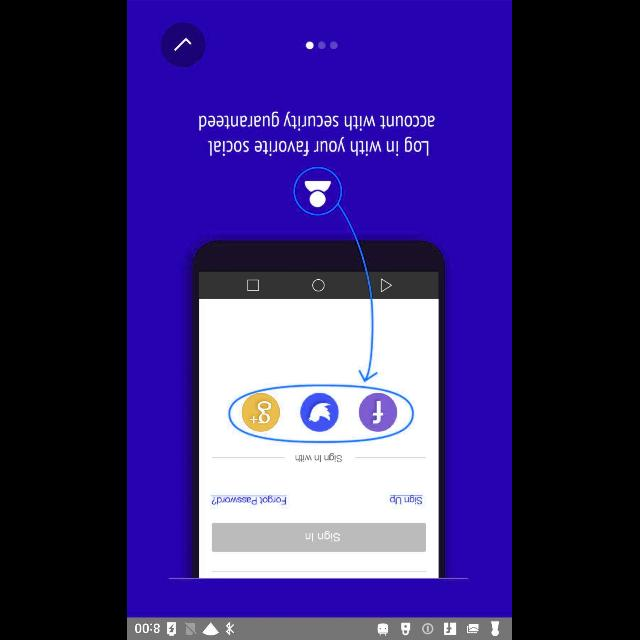button: (162, 22, 206, 68)
image: (193, 166, 445, 578)
pageindicator: (306, 41, 338, 49)
text: (200, 111, 436, 157)
uppertaskbar: (128, 617, 512, 639)
